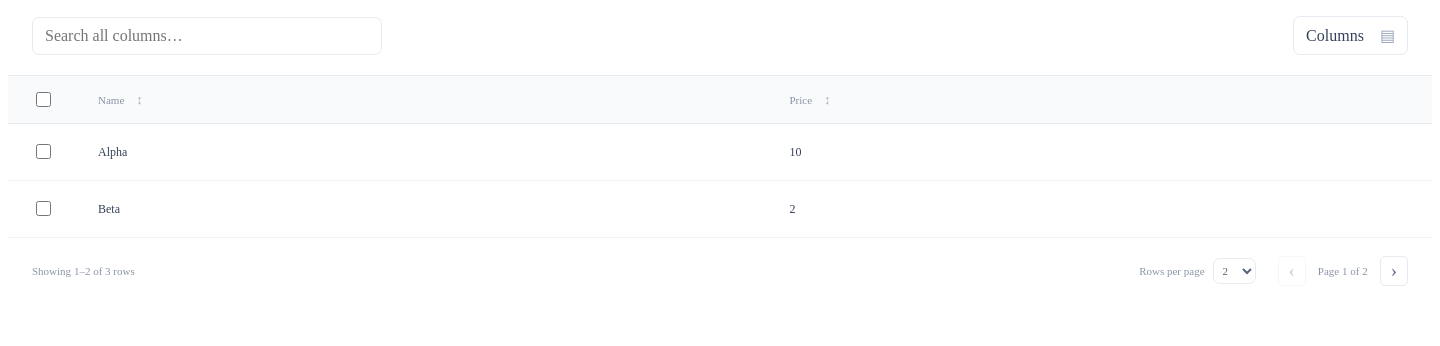
Test: selects pages without clearing hidden selections and supports mixed state
Click the checkbox named "Select Alpha".
click(44, 152)  # box [36,144,51,159]
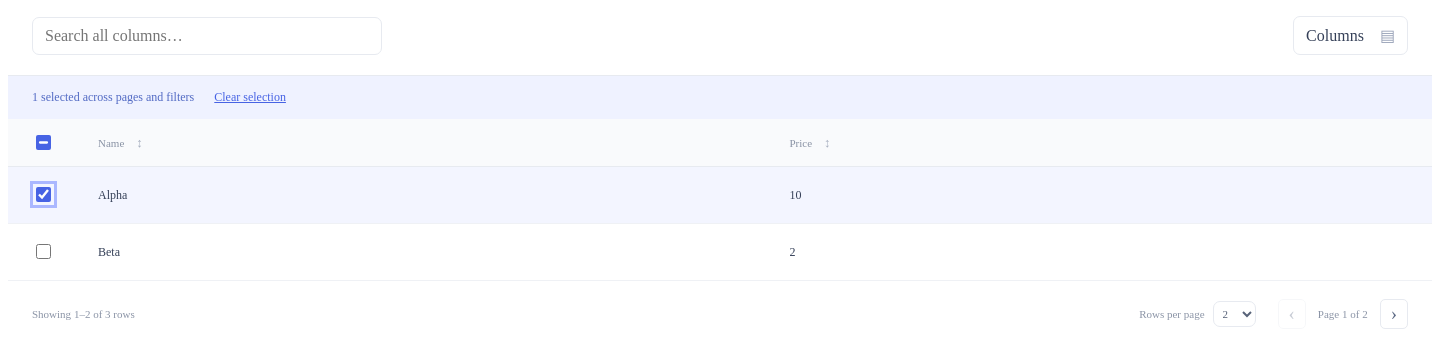
Click the checkbox named "Select current page".
click(44, 142)  # box [36,135,51,150]
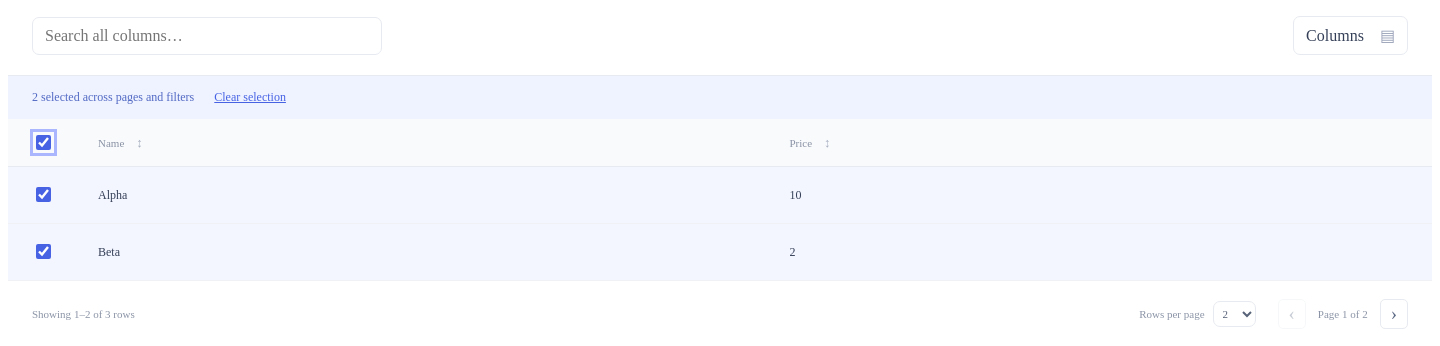
Click the button named "Next page".
click(1394, 314)  # box [1380,299,1408,329]
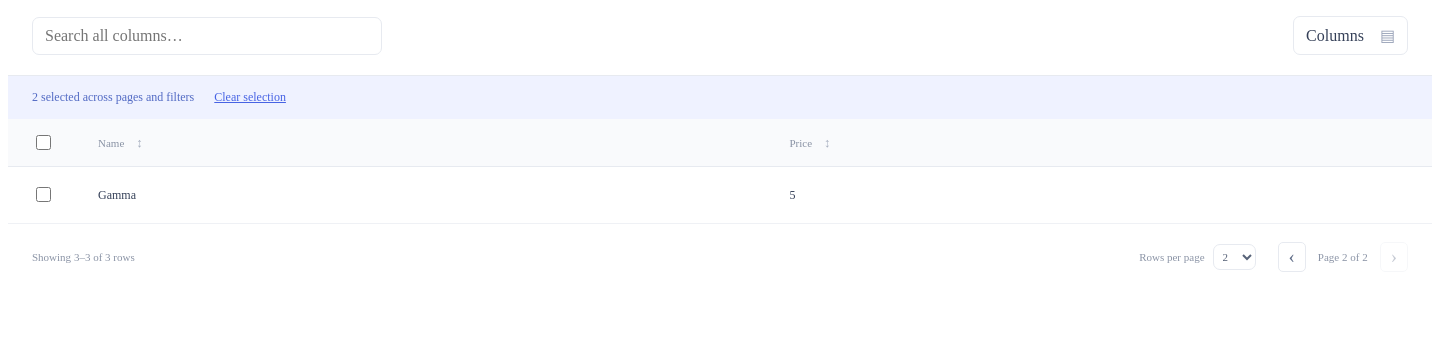
Click the checkbox named "Select Gamma".
click(44, 194)  # box [36,187,51,202]
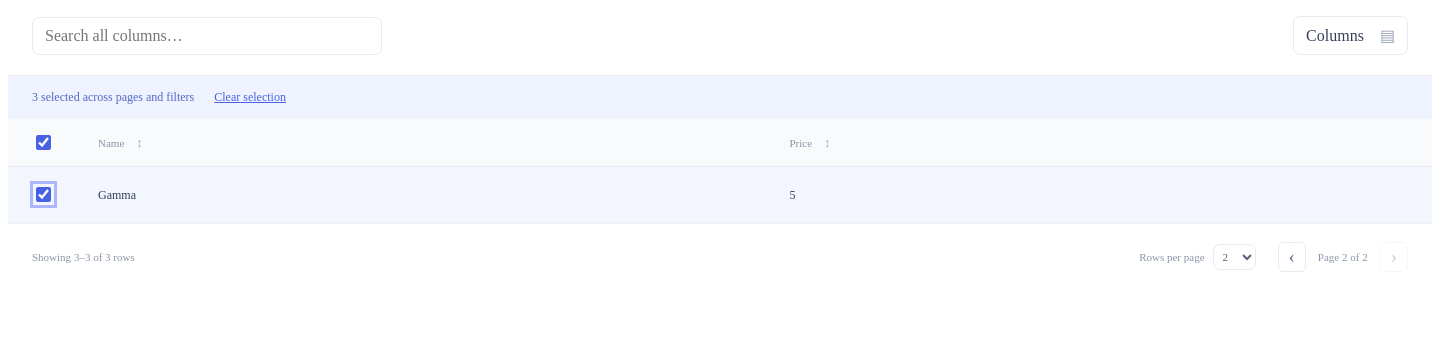
Expected: the text "3 selected across pages and filters Clear selection" is shown, [8,76,1432,119]
Click the button "Clear selection".
click(250, 98)  # box [210,86,290,109]
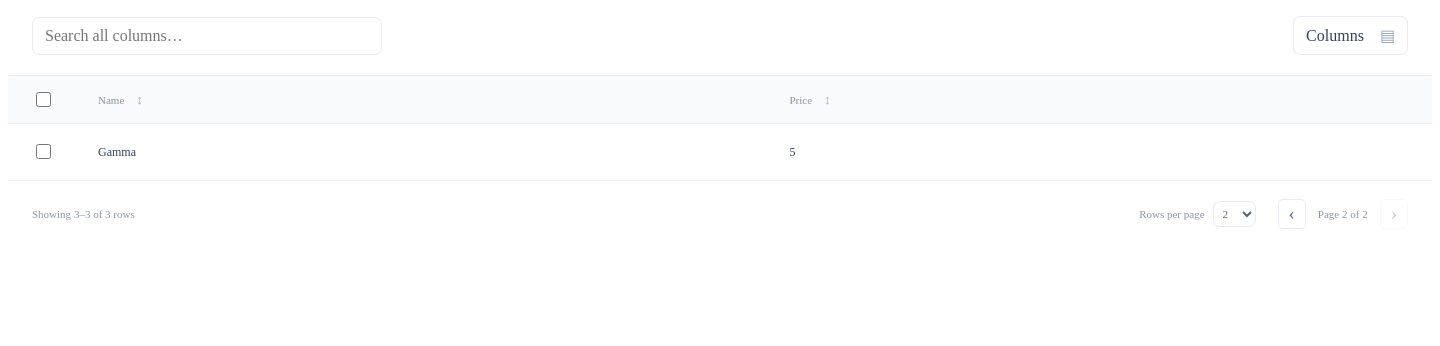
Expected: the checkbox named "Select Gamma" is not checked, [36,144,51,159]
